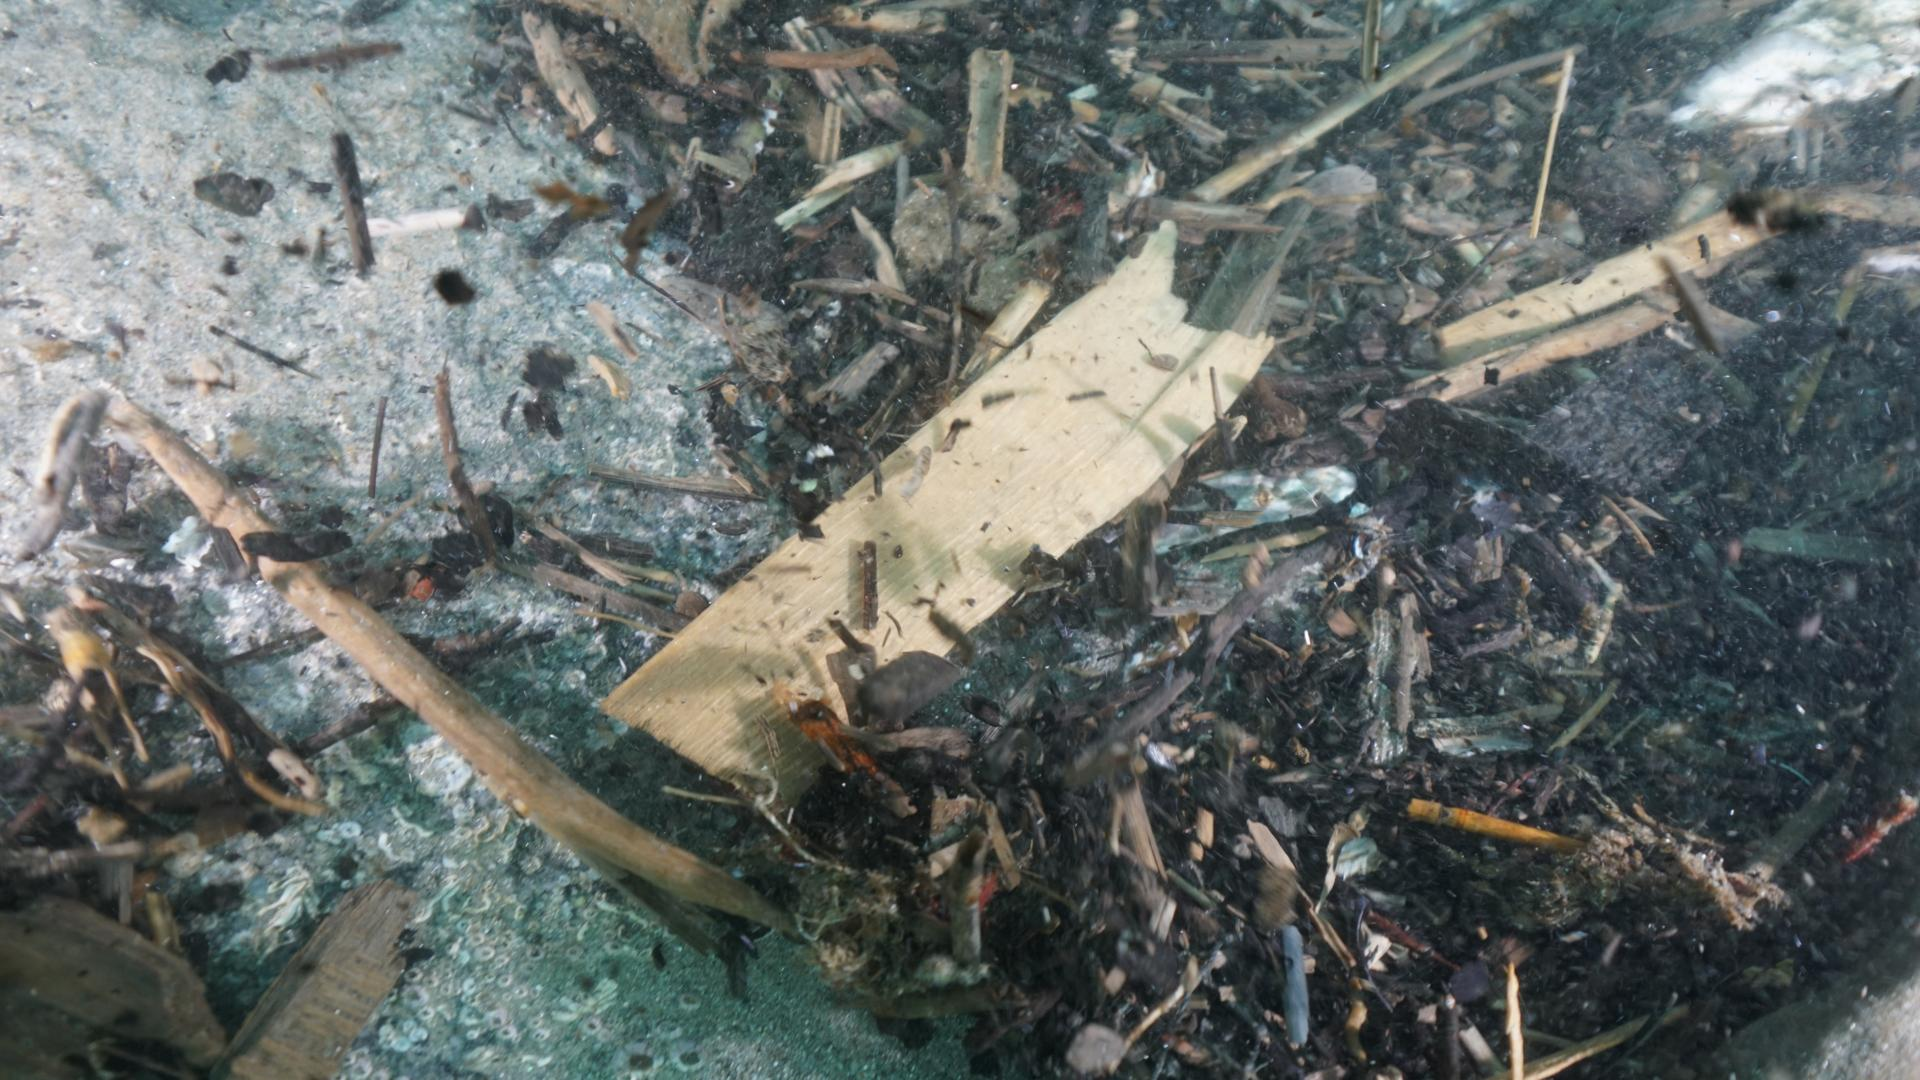wood: (592, 218, 1279, 823)
